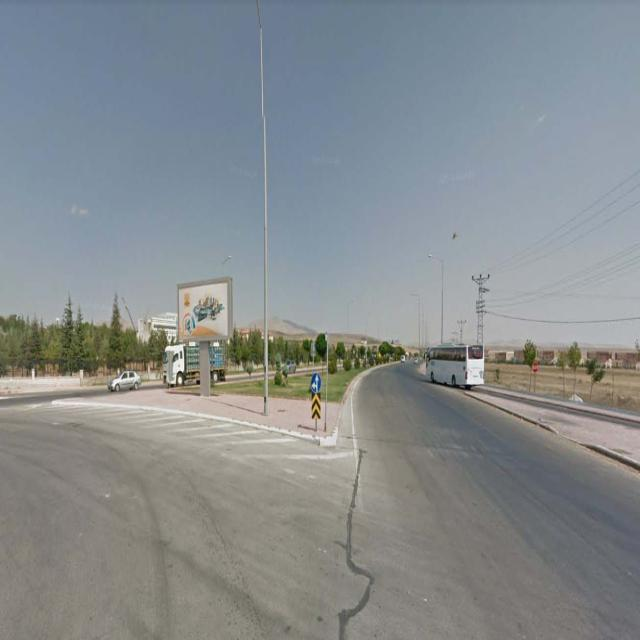ilerisol: (310, 372, 321, 392)
